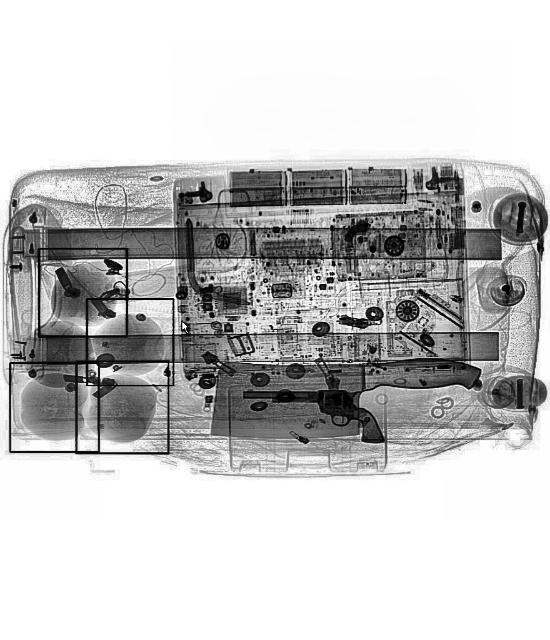Gun: (243, 388, 383, 442)
Knife: (211, 356, 479, 439)
